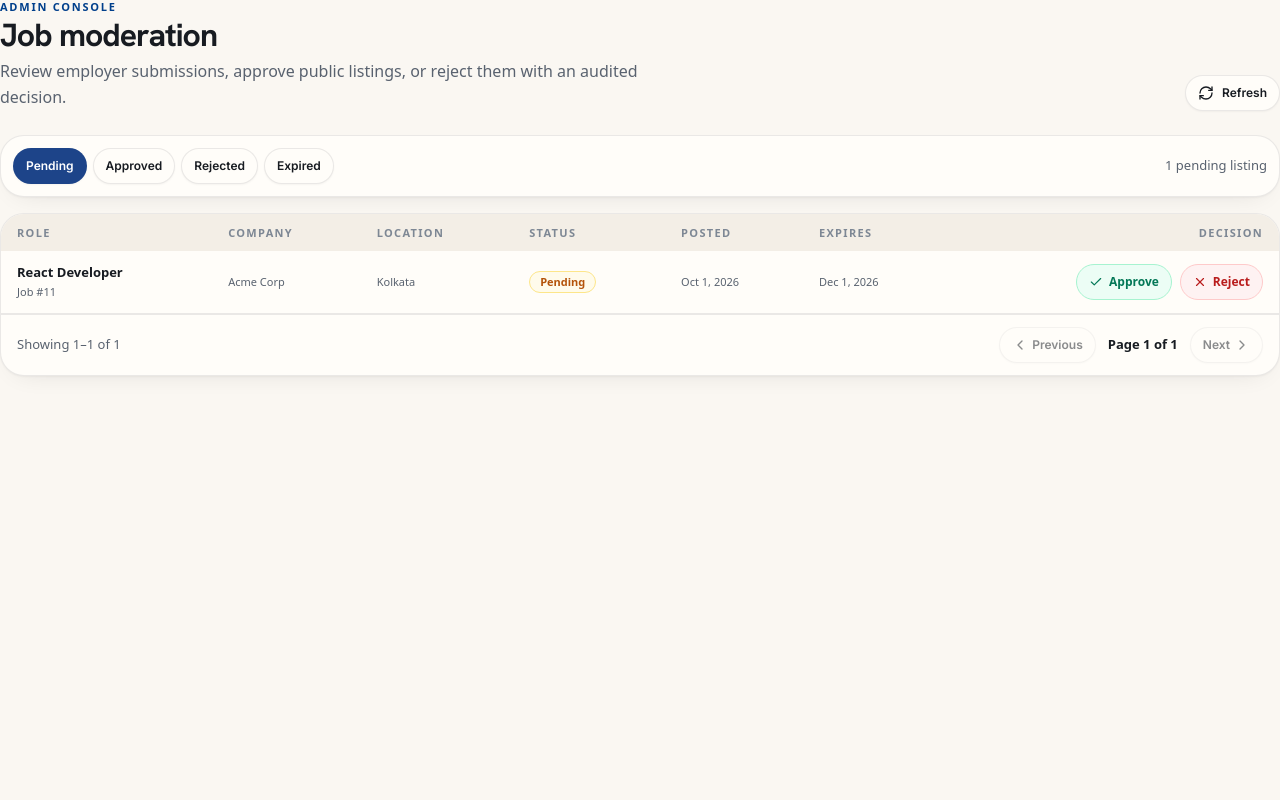
Test: AdminJobsPage › approves through ConfirmDialog, removes the row optimistically, and refreshes the queue
Expected: the text "React Developer" is shown, [17, 263, 123, 281]
Step 1. Click the button with aria-label "approve react developer" → (1124,282), box [1076, 264, 1172, 300]
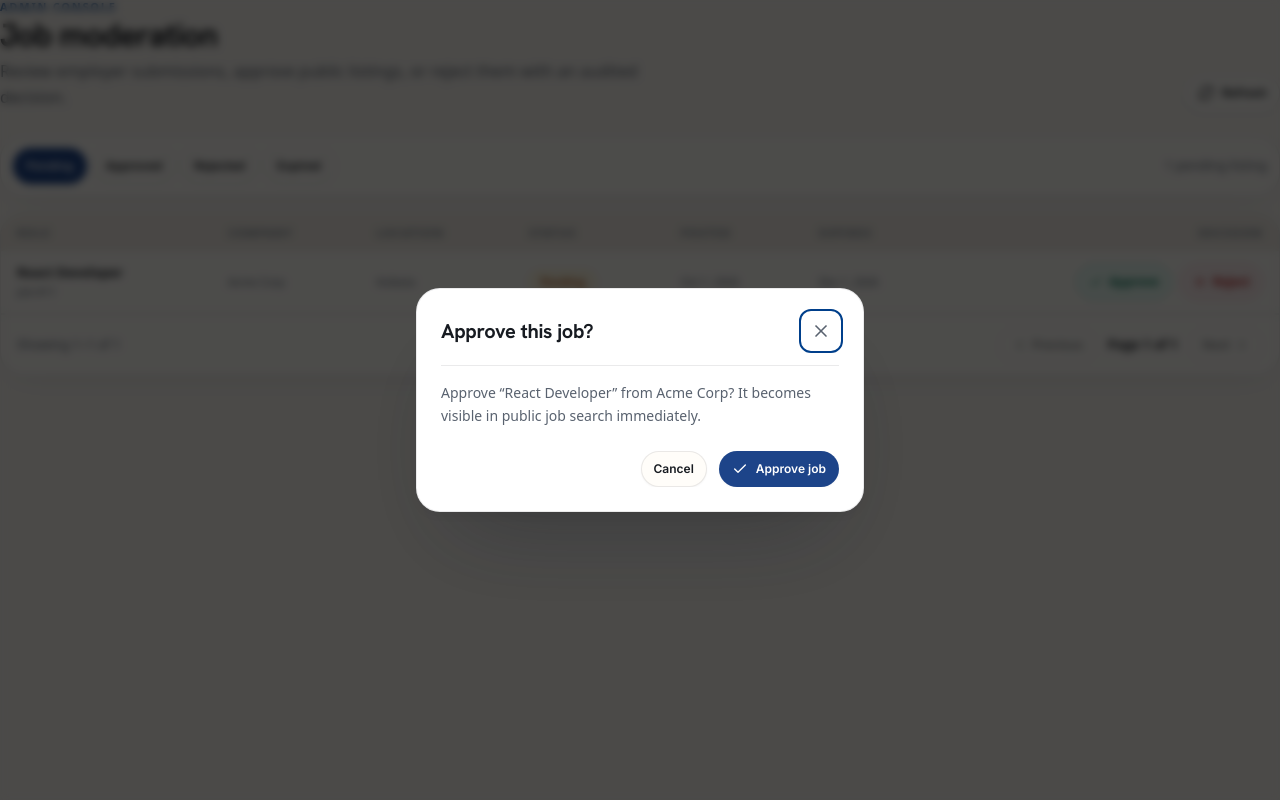
Step 2. Click the button "Approve job" → (779,469), box [719, 451, 839, 487]
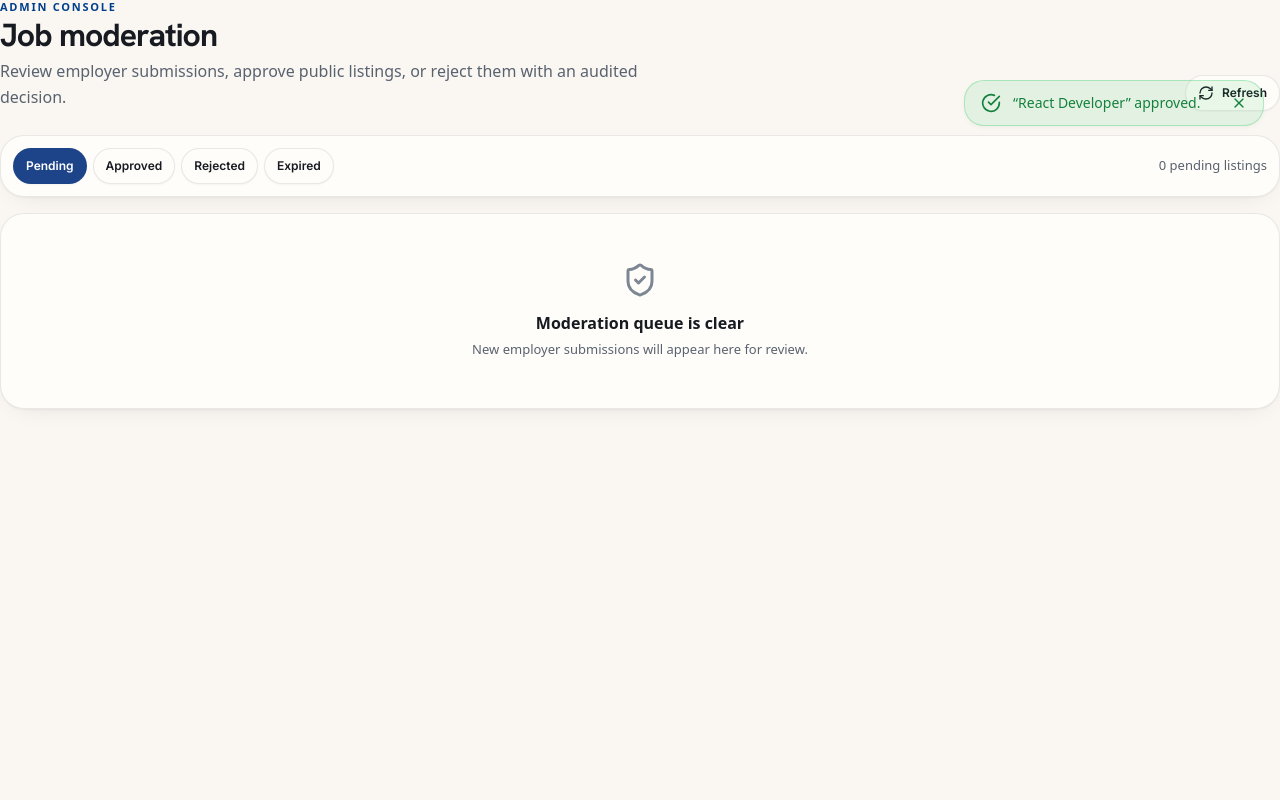
Expected: the text "Moderation queue is clear" is shown, [536, 310, 744, 336]
Expected: the text "“React Developer” approved." is shown, [1013, 93, 1219, 113]
